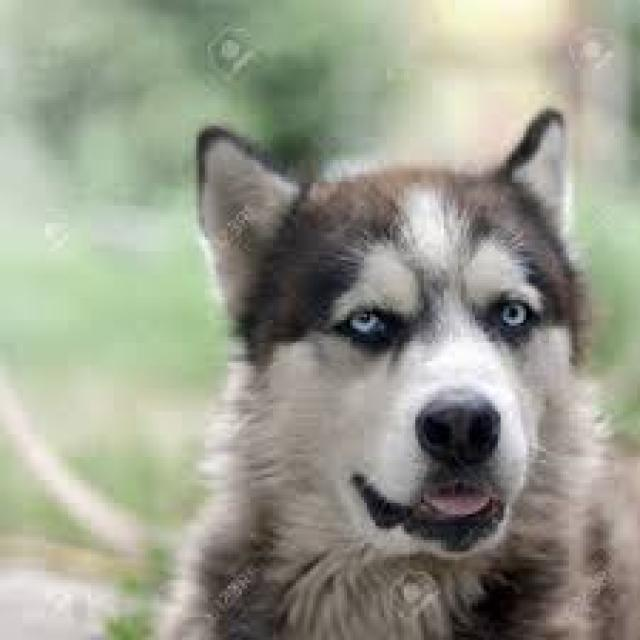ALASKAN_MALAMUTE: (166, 90, 640, 639)
